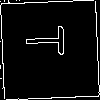T: (25, 24, 74, 56)
